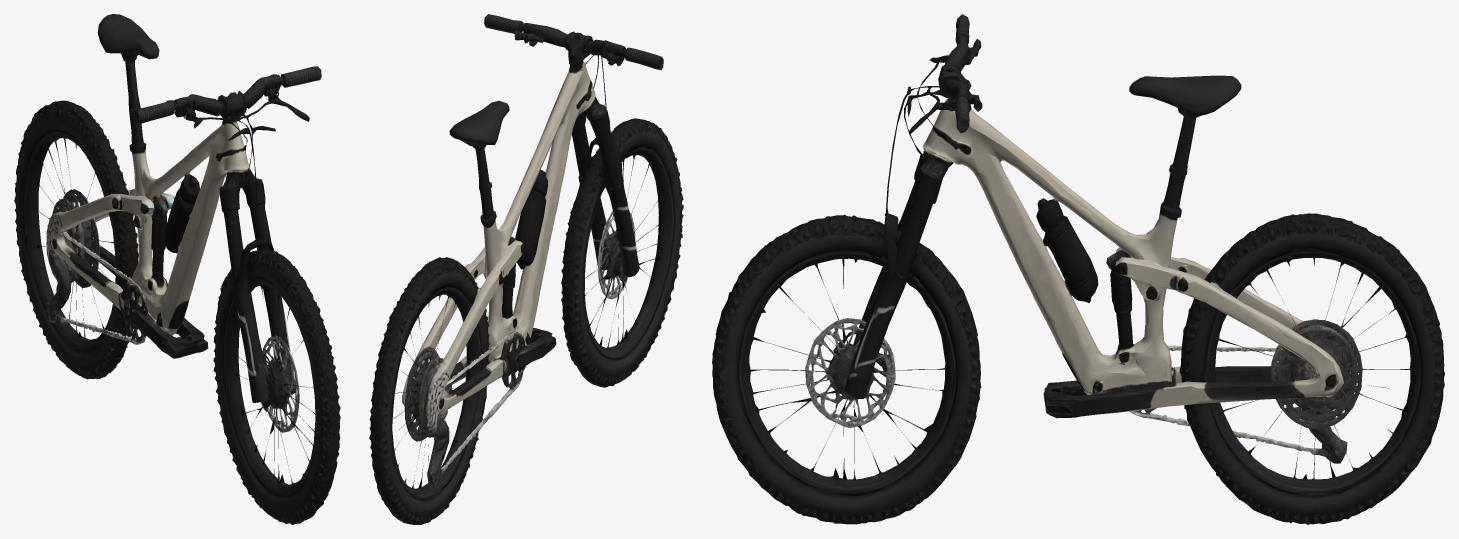
Rendered from mountain-bike-v180.glb.
3 views of the same model, side by side, from view 1: azimuth 30°, elevation 25°; view 2: azimuth 150°, elevation 25°; view 3: azimuth 270°, elevation 25° (orthographic). The views are drawn at different scales.
Parts seen in each view (by area): view 1: Mesh; view 2: Mesh; view 3: Mesh.
Boxes of the visible parts, left/top/right/bottom form: Mesh: left=14, top=14, right=340, bottom=524; Mesh: left=369, top=14, right=683, bottom=524; Mesh: left=712, top=14, right=1444, bottom=524.
Bounding box in the file's own units: 0.62 × 1.28 × 1.85.
1 material, 1 textured.
